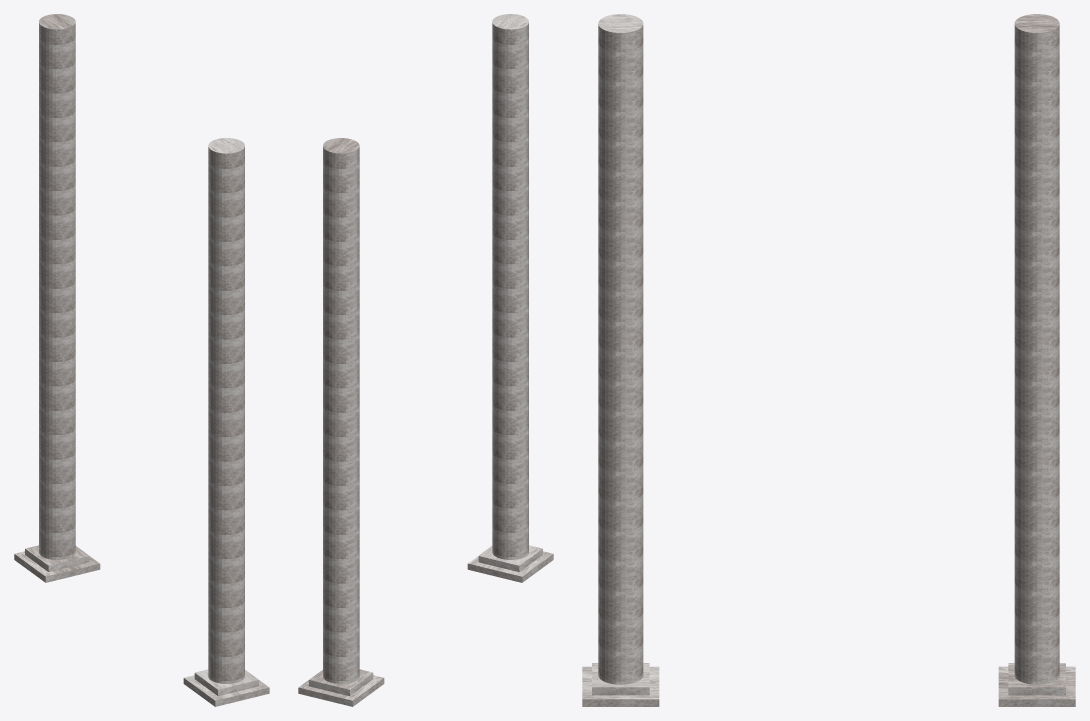
Rendered from throne_pillars.obj.
The picture shows the model from 3 angles, left to right: view 1: azimuth 30°, elevation 25°; view 2: azimuth 150°, elevation 25°; view 3: azimuth 270°, elevation 25°; orthographic projection. The views are drawn at different scales.
Visible parts, largest first — view 1: Cube; view 2: Cube; view 3: Cube.
Part boxes in pixels (left/top/right/bottom): Cube: left=14, top=14, right=269, bottom=706; Cube: left=298, top=14, right=553, bottom=706; Cube: left=582, top=14, right=1075, bottom=706.
Bounding box in the file's own units: 4.82 × 45.98 × 30.82.
Materials: 1 (1 with a texture image).
